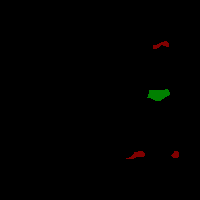abbigliamento: (126, 151, 145, 159), (153, 41, 169, 49), (171, 151, 179, 158)
mutande: (147, 89, 170, 101)
